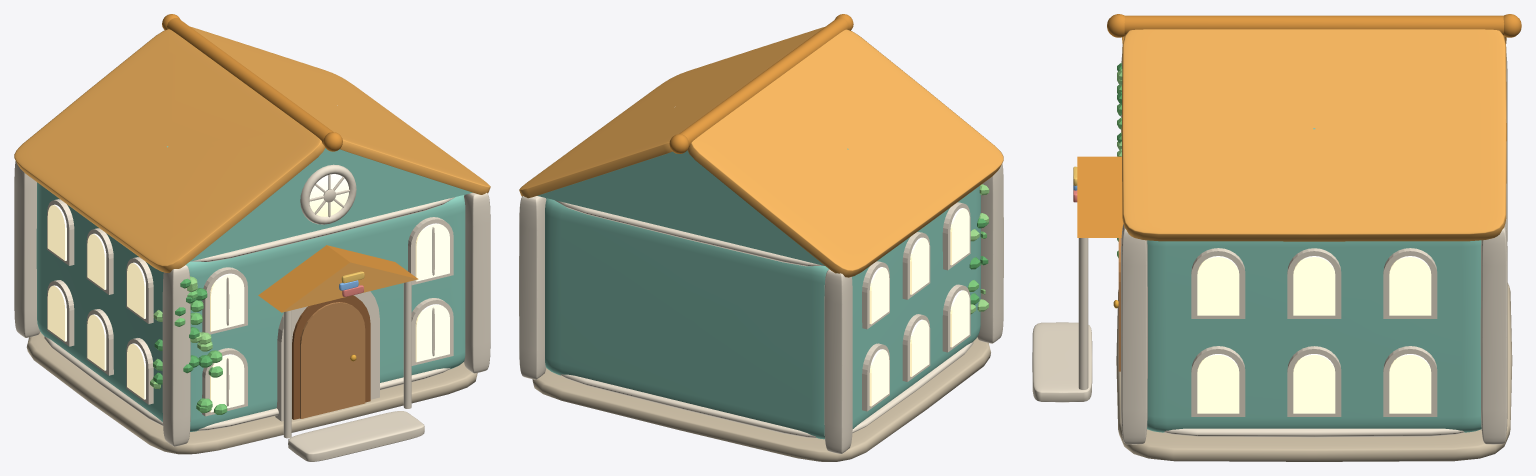
The model's file is library.glb.
3 views of the same model, side by side, from view 1: azimuth 30°, elevation 25°; view 2: azimuth 150°, elevation 25°; view 3: azimuth 270°, elevation 25° (orthographic). The views are drawn at different scales.
Parts seen in each view (by area): view 1: library; view 2: library; view 3: library.
Boxes of the visible parts, <box> form: library: <box>14,14,490,461</box>; library: <box>519,14,1003,461</box>; library: <box>1032,14,1521,461</box>.
Size of the model in its own units: 7.78 by 6.51 by 8.15.
1 material, 1 textured.
